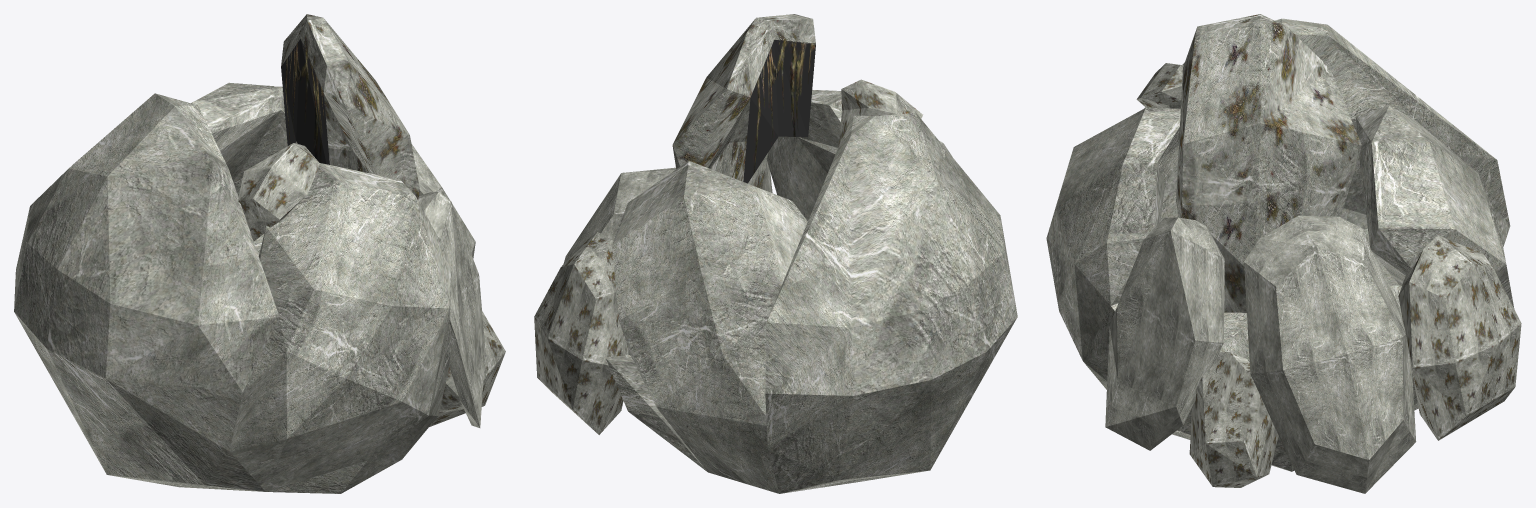
Rendered from poi_all_lair_rock_shelter_large_l1.fbx.
3 views of the same model, side by side, from view 1: azimuth 30°, elevation 25°; view 2: azimuth 150°, elevation 25°; view 3: azimuth 270°, elevation 25° (orthographic). The views are drawn at different scales.
Visible parts, largest first — view 1: mesh_node; view 2: mesh_node; view 3: mesh_node.
Part boxes in pixels (<box>): mesh_node: <box>14,14,505,493</box>; mesh_node: <box>534,14,1017,493</box>; mesh_node: <box>1046,14,1521,493</box>.
Bounding box in the file's own units: 4.49 × 4.58 × 4.29.
